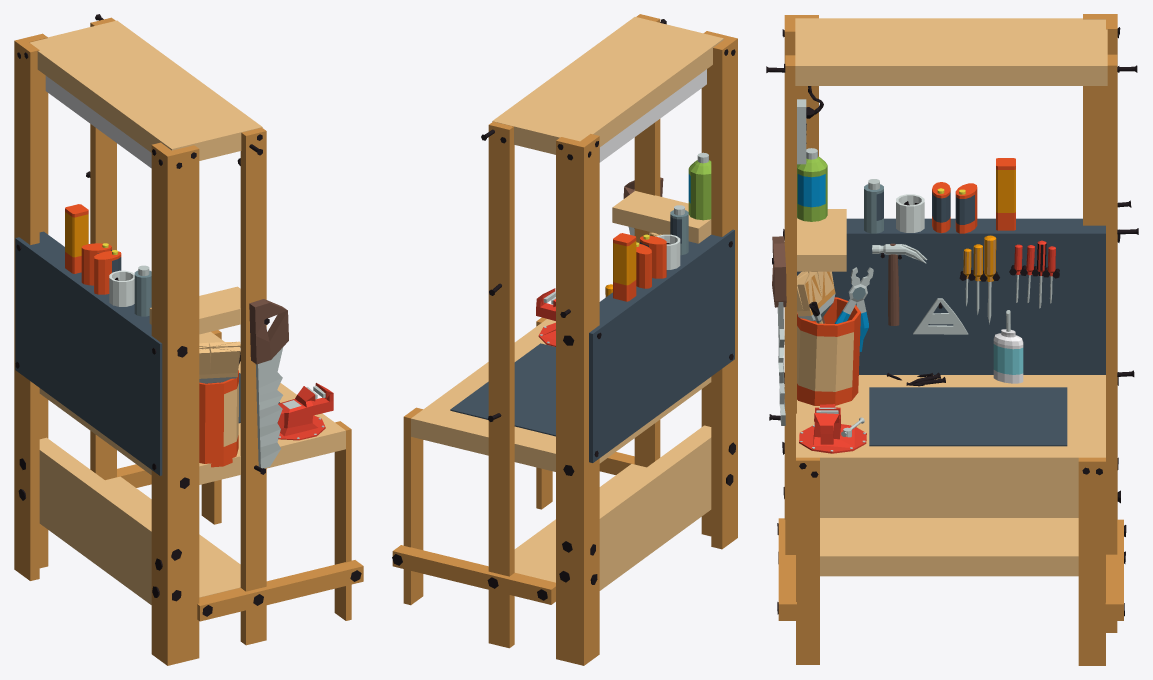
Rendered from pp_workbench.glb.
3 renders of one model, left to right at view 1: azimuth 30°, elevation 25°; view 2: azimuth 150°, elevation 25°; view 3: azimuth 270°, elevation 25°, orthographic. The views are drawn at different scales.
Visible parts, largest first — view 1: group1022724333, group1115598653; view 2: group1022724333, group1115598653; view 3: group1022724333, group1115598653.
Boxes of the visible parts, <box> form: group1022724333: <box>14,14,363,665</box>; group1115598653: <box>109,270,134,306</box>; group1022724333: <box>392,14,737,665</box>; group1115598653: <box>657,234,680,269</box>; group1022724333: <box>766,14,1138,665</box>; group1115598653: <box>896,194,924,232</box>.
Bounding box in the file's own units: 1.07 × 2.72 × 1.62.
2 materials, 2 textured.
